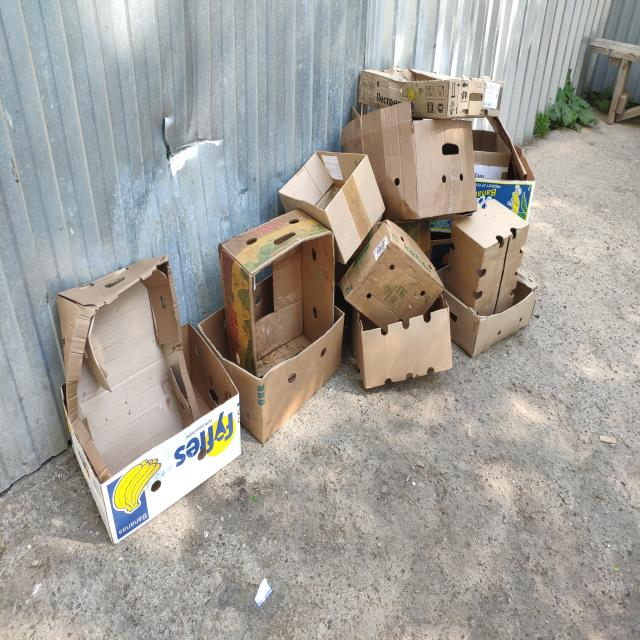entulho: (195, 201, 350, 445), (56, 248, 192, 504), (339, 212, 468, 397), (340, 116, 524, 234), (430, 203, 536, 359), (276, 145, 387, 247), (354, 63, 505, 123), (587, 32, 640, 126)
lixo domiciliar: (253, 582, 272, 607)
